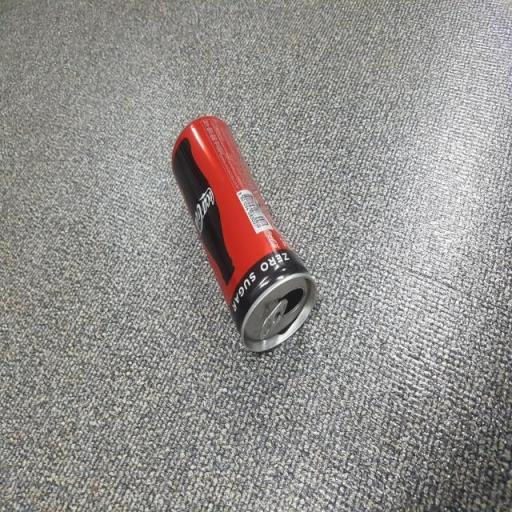metal: (154, 93, 340, 420)
